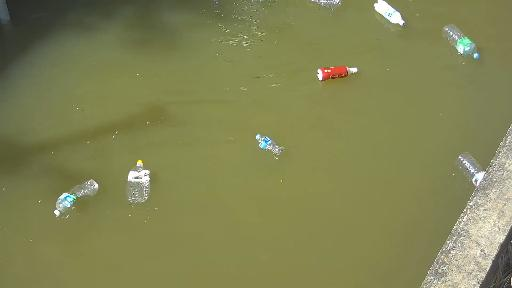plastic: (25, 171, 102, 221), (409, 8, 478, 59), (114, 160, 186, 203), (437, 144, 486, 187), (243, 128, 302, 155), (350, 0, 406, 26), (314, 59, 374, 81), (291, 0, 347, 14)
